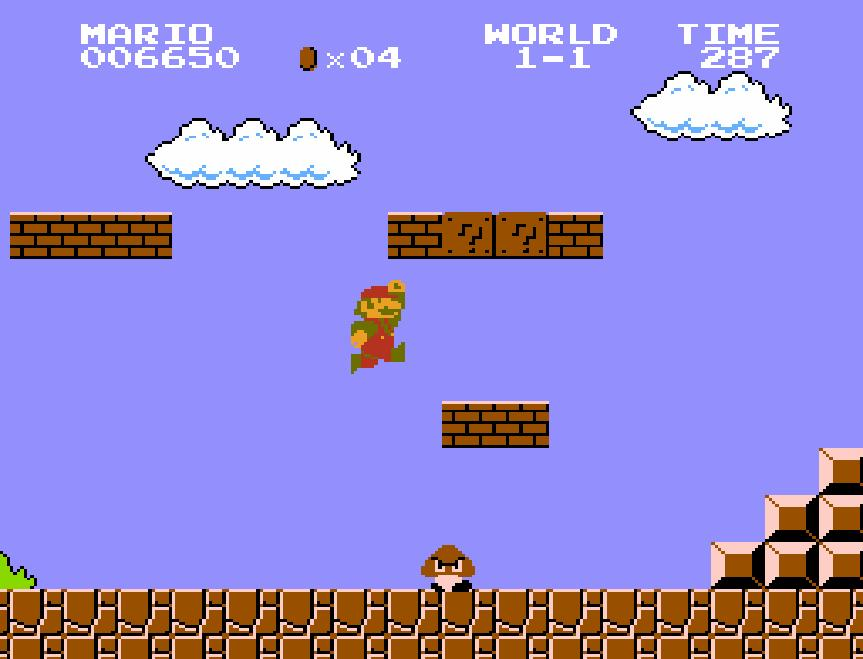big_mario: (348, 278, 406, 376)
